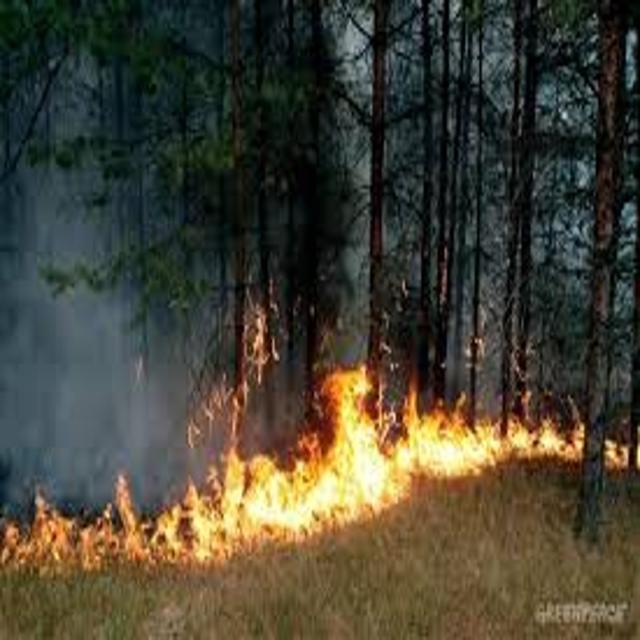Fire: (318, 363, 640, 533), (0, 418, 320, 584), (180, 266, 300, 415)
Smoke: (0, 170, 180, 418)
